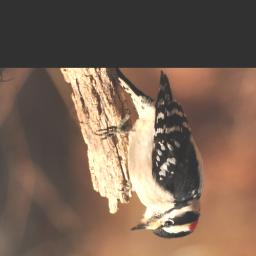Woodpecker: (93, 71, 205, 243)
